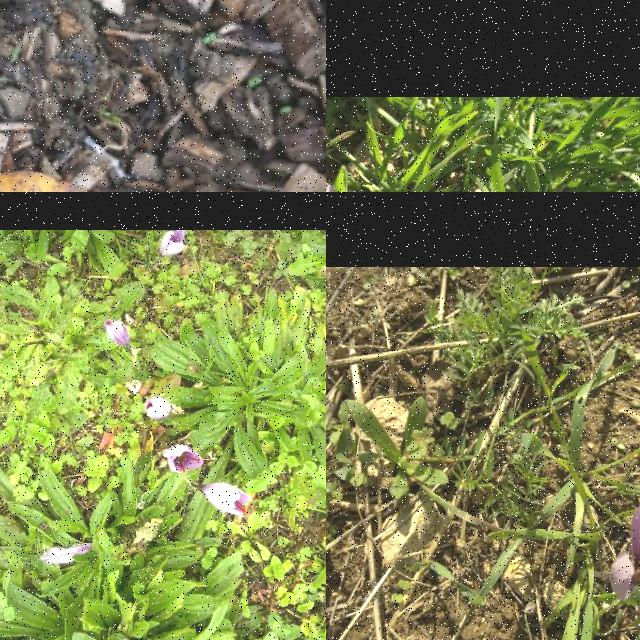flower: (609, 491, 640, 640), (196, 484, 254, 518), (160, 444, 204, 474), (159, 230, 185, 258), (142, 396, 172, 420), (106, 320, 130, 350)
